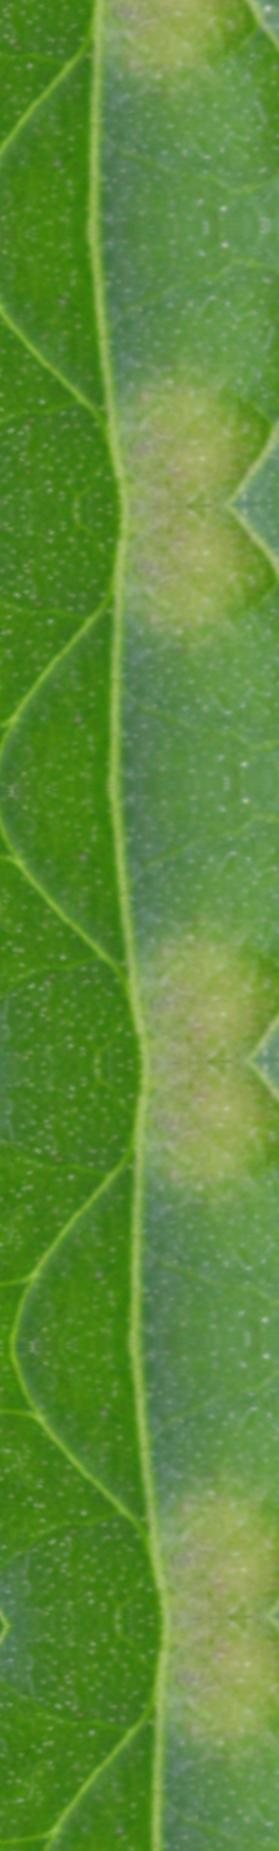Tomato mold leaf: (0, 753, 279, 1099)
